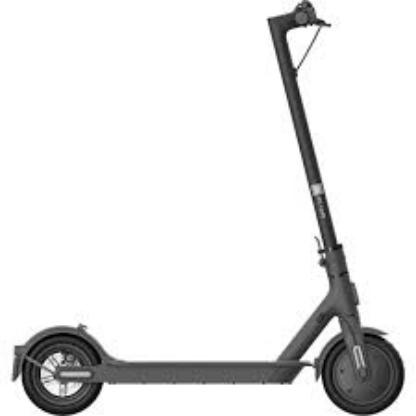bike: (3, 14, 406, 415)
